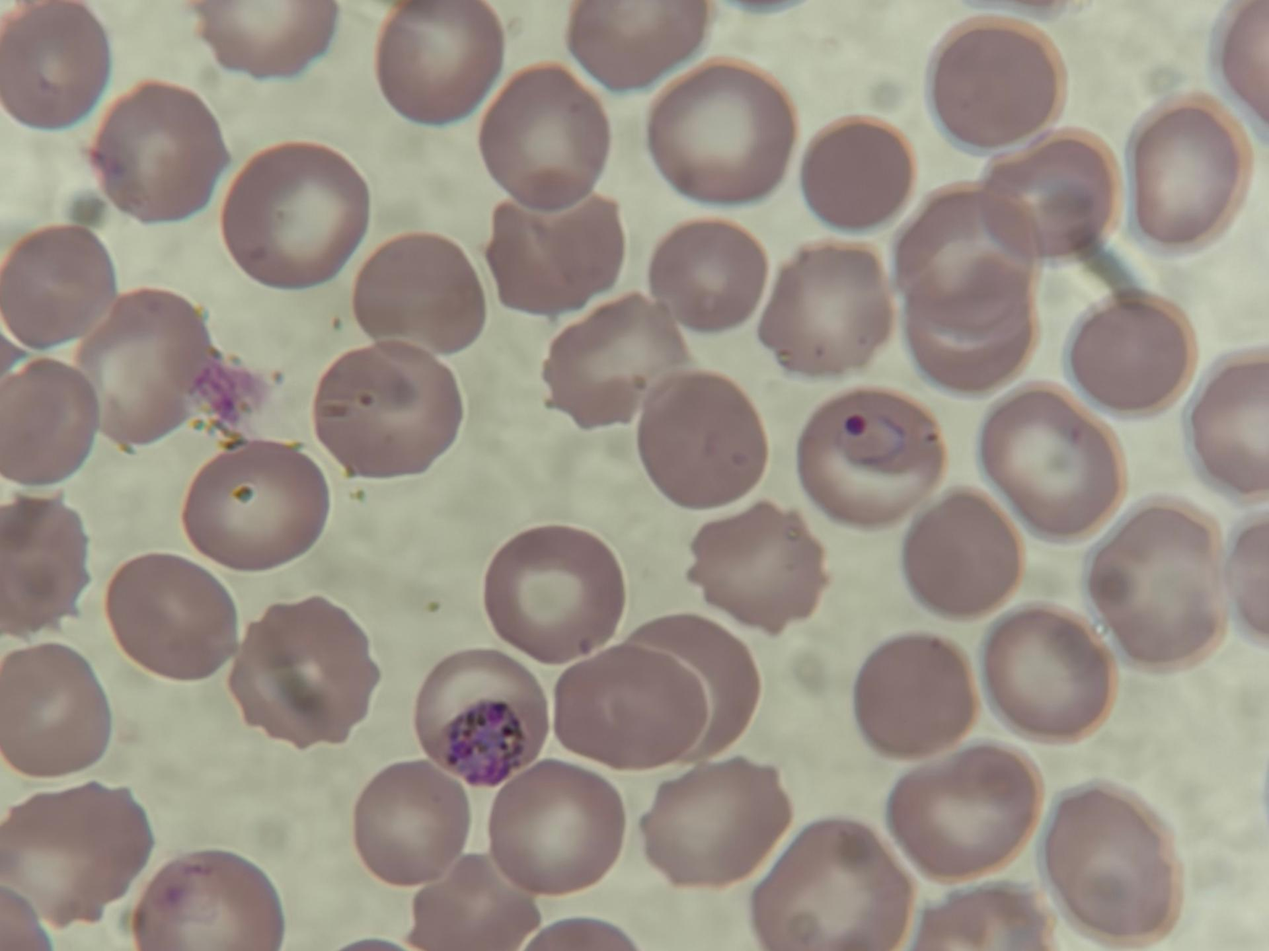Infected: (800, 385, 941, 526), (416, 653, 550, 787)
Uninfected: (1083, 500, 1225, 665), (227, 594, 378, 747), (1037, 784, 1179, 944), (1, 781, 150, 932), (218, 141, 371, 288), (73, 287, 213, 447), (978, 386, 1124, 537), (645, 59, 795, 203), (313, 340, 464, 480), (896, 184, 1038, 332), (886, 743, 1037, 882), (552, 639, 708, 771), (750, 819, 907, 950), (620, 610, 761, 755), (91, 81, 233, 222), (1126, 93, 1252, 249), (482, 523, 623, 662), (639, 756, 787, 888), (925, 15, 1066, 153), (543, 293, 683, 430), (482, 66, 611, 212), (182, 443, 327, 570), (979, 607, 1114, 741), (635, 371, 767, 508), (105, 551, 240, 683), (687, 500, 822, 632), (757, 244, 890, 376), (485, 763, 619, 894), (981, 129, 1118, 255), (486, 195, 624, 320), (350, 231, 486, 356), (1065, 290, 1192, 416), (909, 268, 1032, 397), (851, 634, 977, 758), (377, 0, 504, 121), (900, 492, 1020, 619), (0, 642, 112, 775), (352, 763, 470, 888), (132, 850, 278, 950), (0, 0, 111, 130), (1, 223, 114, 350), (647, 218, 768, 334), (568, 0, 711, 97), (798, 115, 914, 231), (1, 491, 93, 632), (405, 853, 537, 949), (0, 359, 100, 484), (1186, 350, 1268, 493), (194, 1, 333, 81), (1213, 0, 1268, 145)
